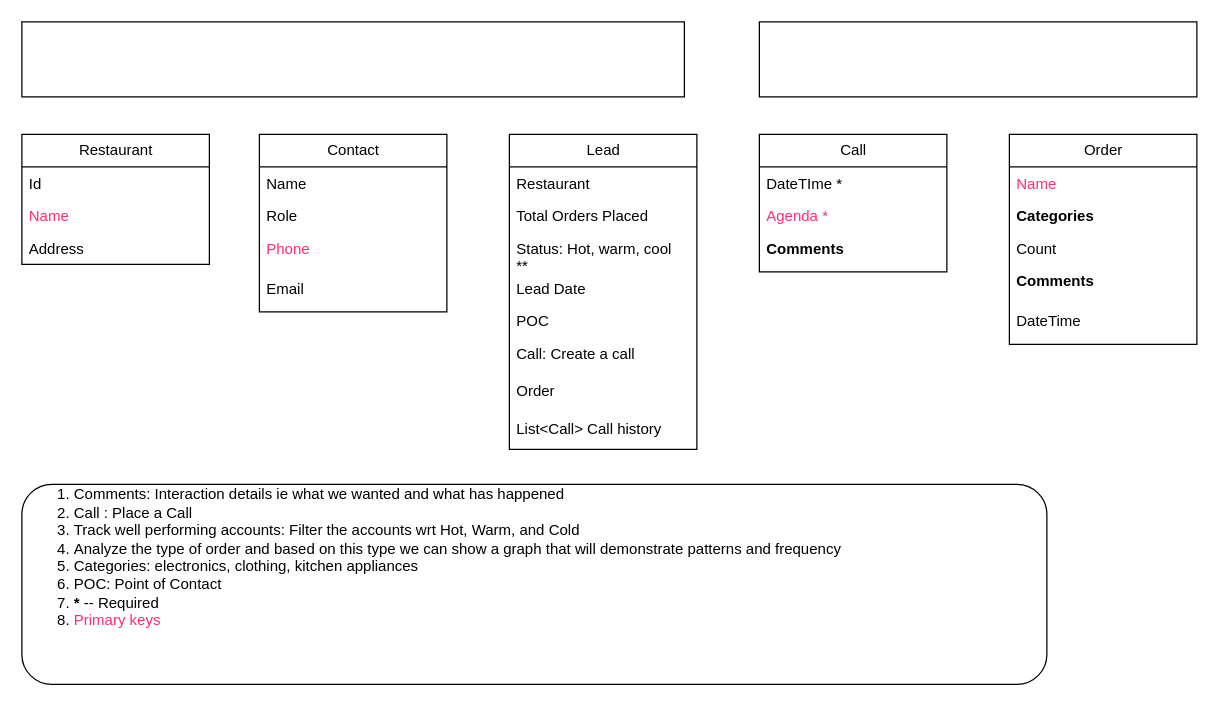
This 1229x720 diagram has some shape labels left out. Here are the shapes that lost their labels. From the top down, the centre of each, then its label:
the point at 352,59: These we need while creating a Lead
the point at 977,59: These we need after the Lead creation i.e. now Lead is a customer
